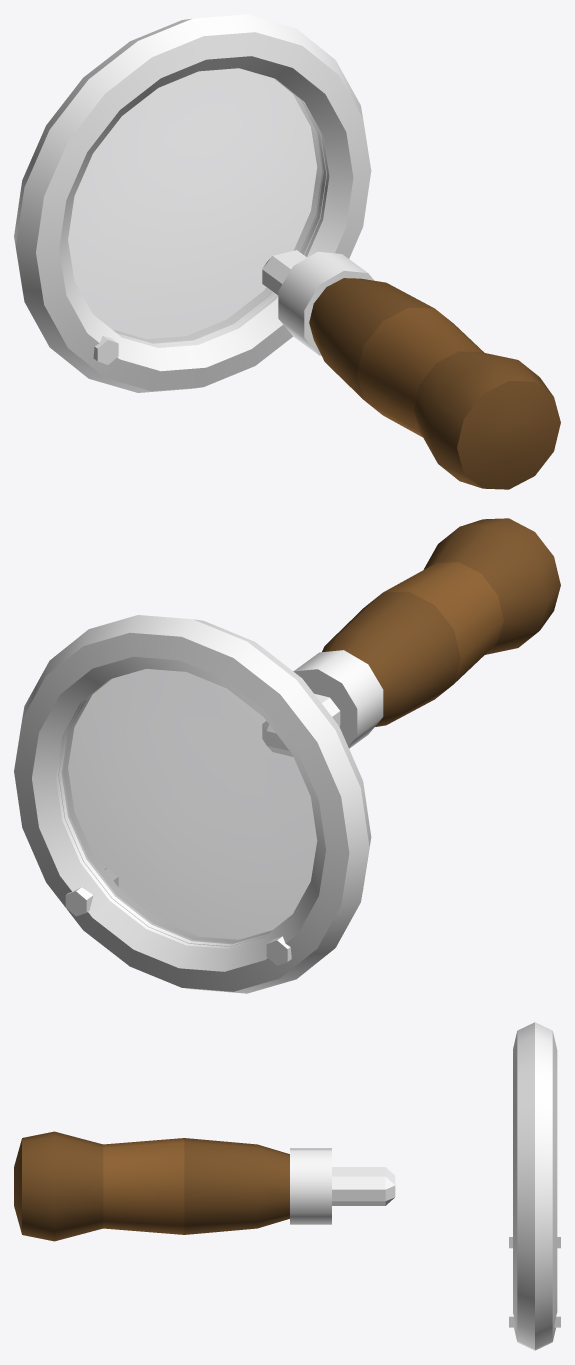
The model's file is magnifier.glb.
3 views of the same model, one above another, from view 1: azimuth 30°, elevation 25°; view 2: azimuth 150°, elevation 25°; view 3: azimuth 270°, elevation 25° (orthographic). The views are drawn at different scales.
Parts seen in each view (by area): view 1: Magnifier; view 2: Magnifier; view 3: Magnifier.
Part boxes in pixels (bbox=[...]): Magnifier: bbox=[14, 14, 560, 489]; Magnifier: bbox=[14, 518, 560, 993]; Magnifier: bbox=[14, 1022, 560, 1350].
Bounding box in the file's own units: 0.204 × 0.204 × 0.337.
